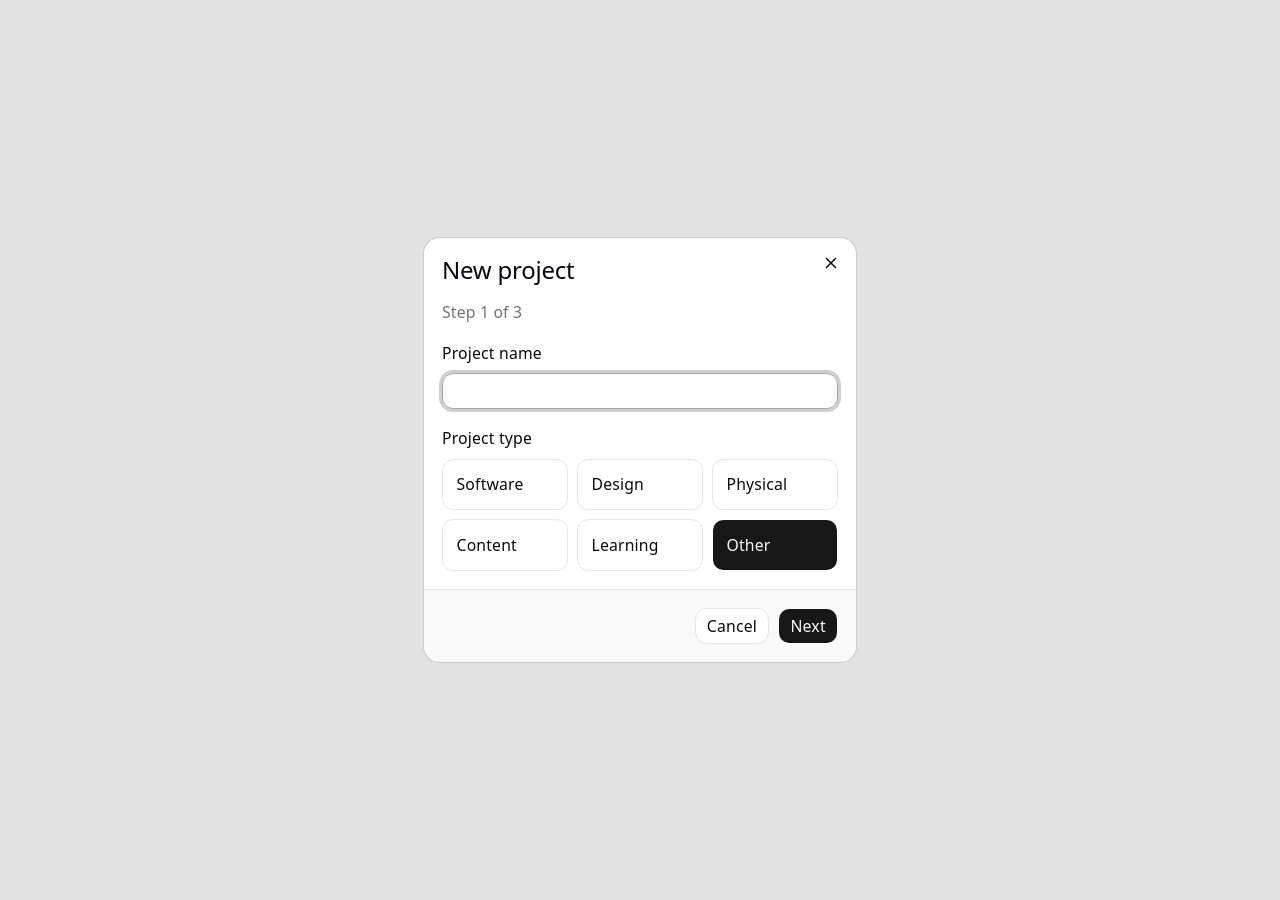
Test: CreateProjectModal › shows a ready confirmation instead of templates for non-software projects
Type "Learning Plan" into the field labelled "Project name" at (640,391), box [442,373,838,409]
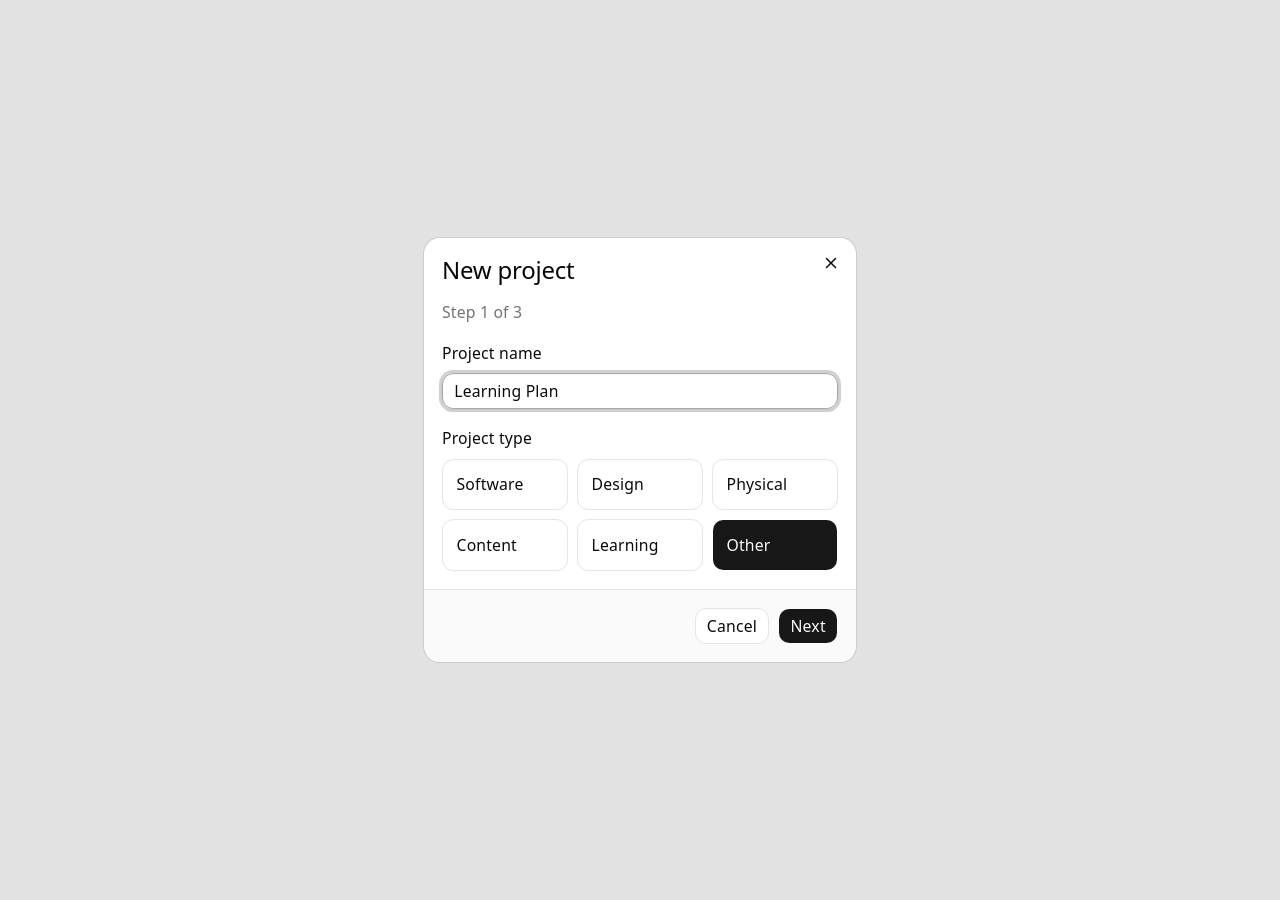
Click the button "Learning" at (640,545), box [577,519,703,571]
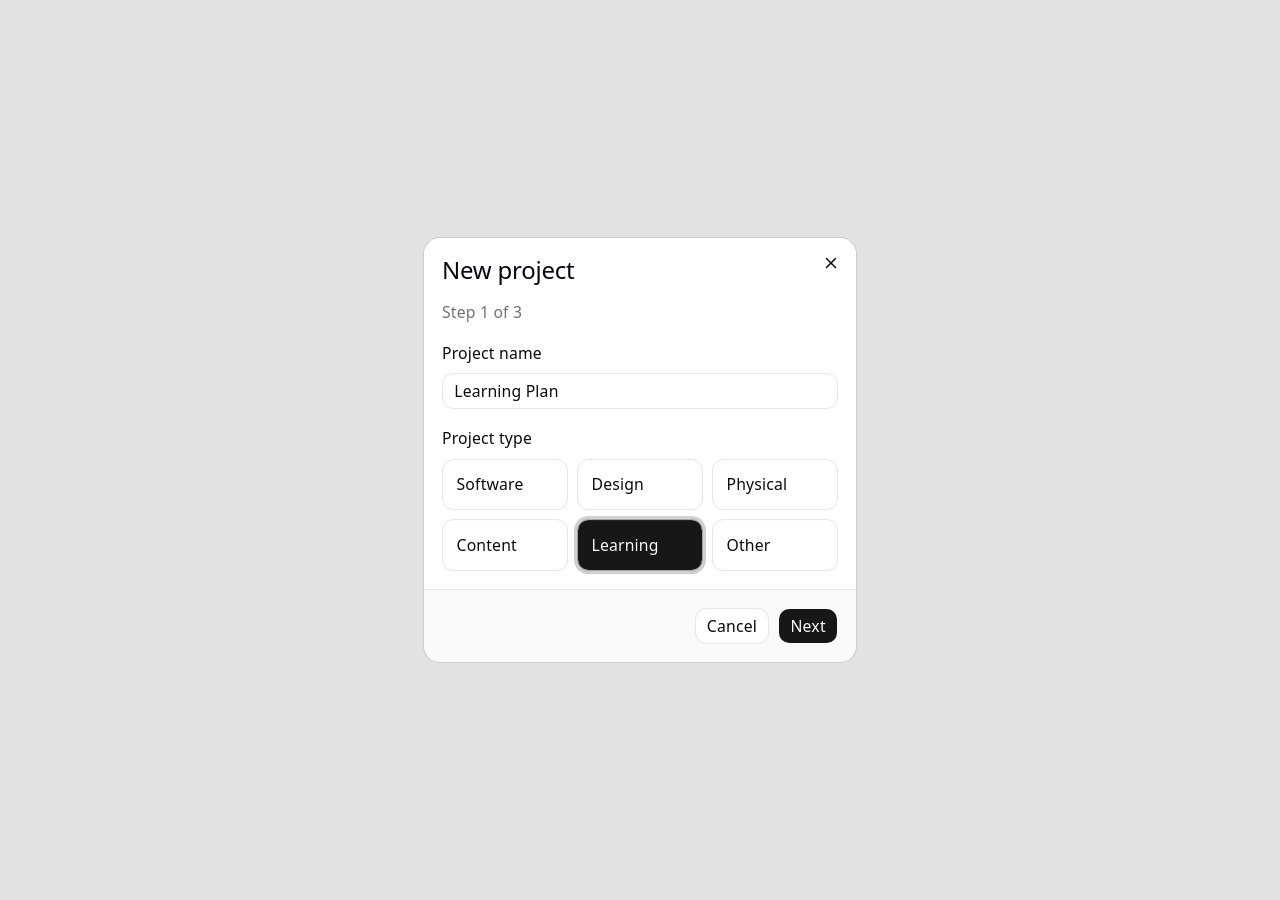
Click the button "Next" at (808,626), box [778,608,838,644]
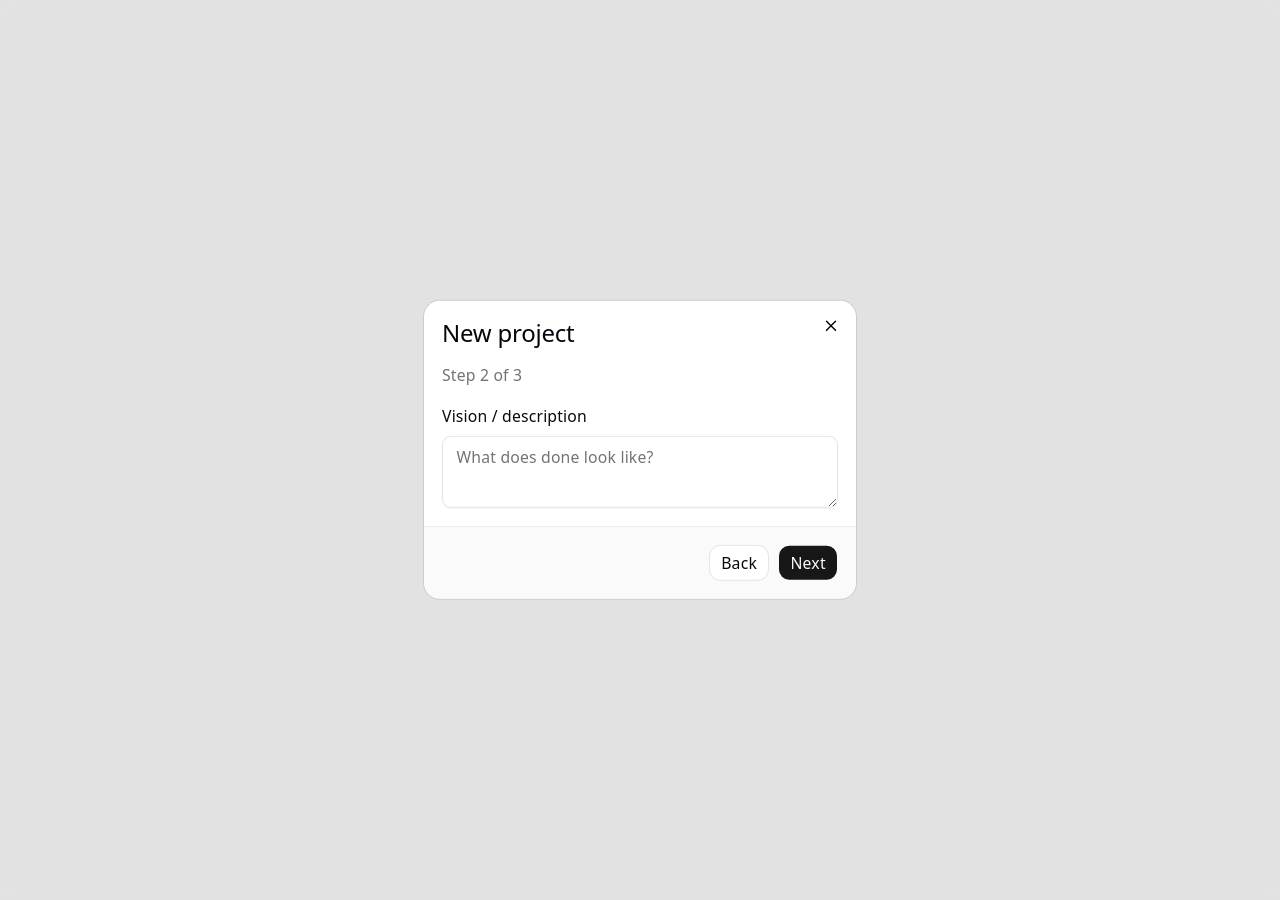
Click the button "Next" at (808,563), box [778,545,838,581]
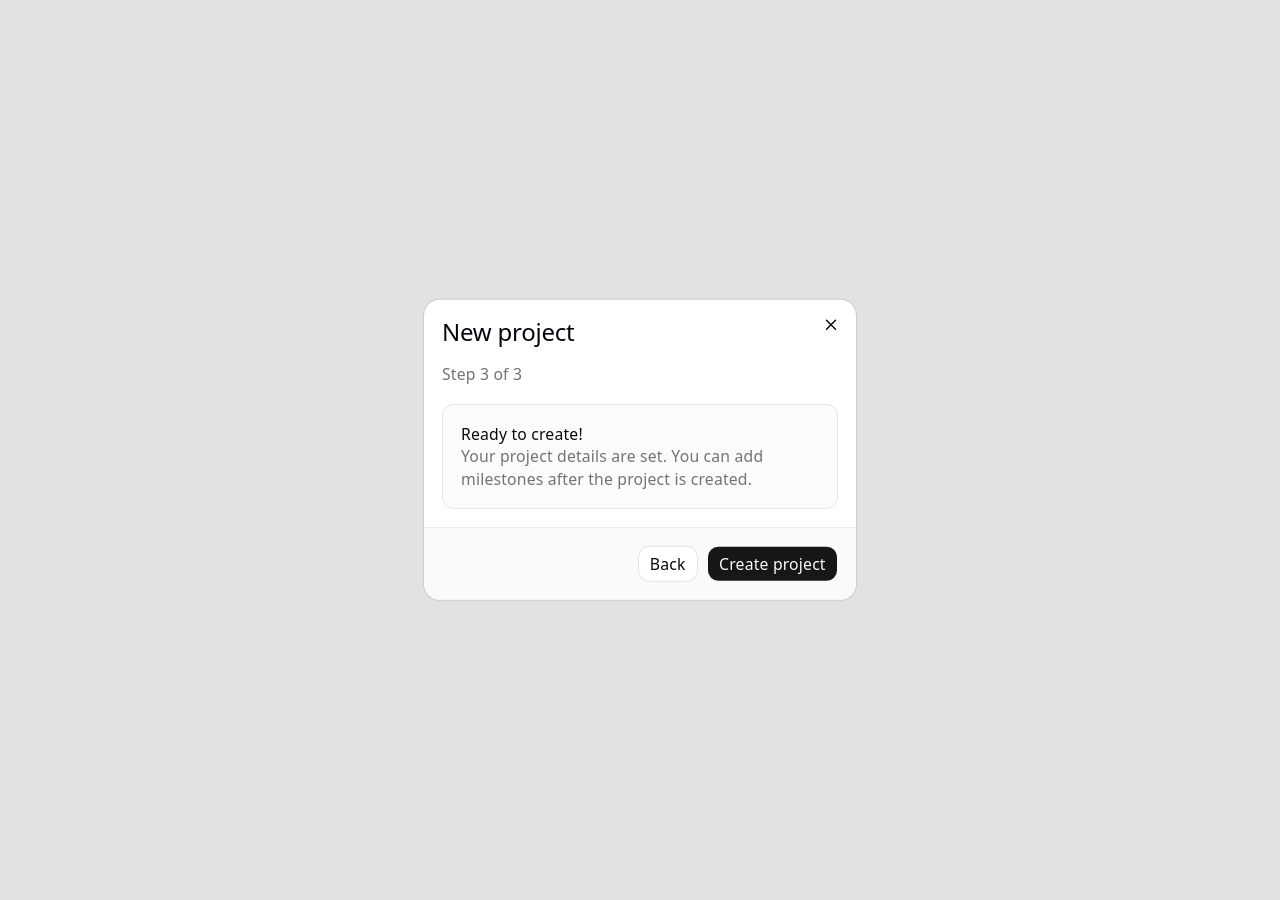
Expected: the heading "Ready to create!" is shown, [461,423,583,445]
